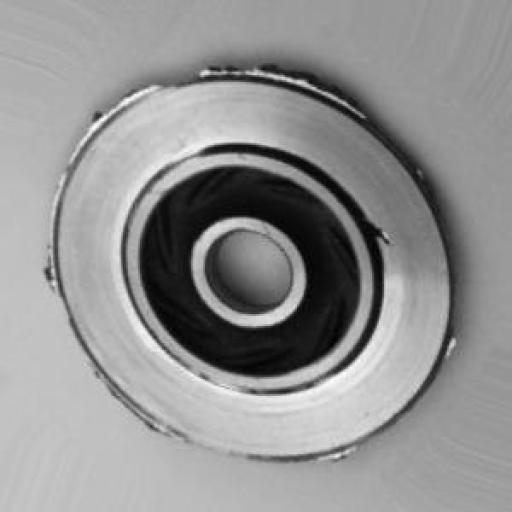defect: (35, 41, 478, 477)
